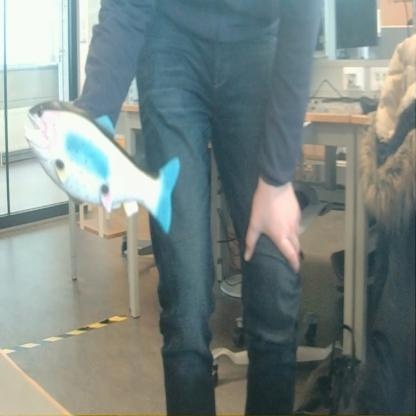rubberfish: (20, 90, 182, 239)
